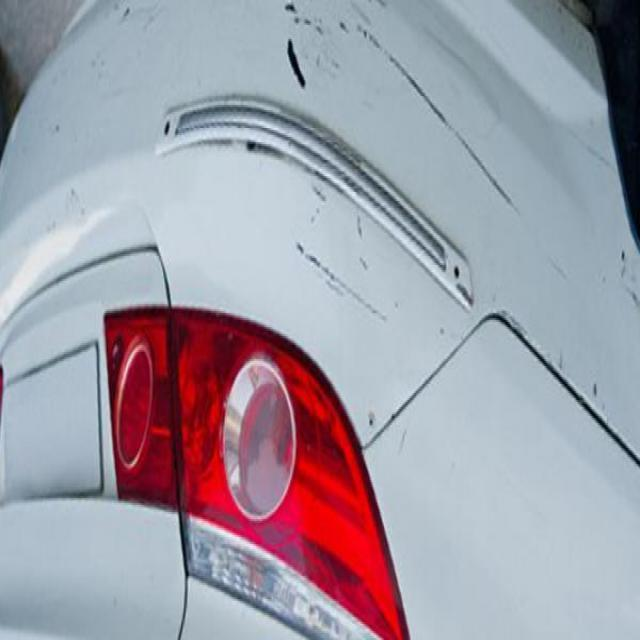scratch: (356, 15, 524, 216), (288, 225, 398, 332)
